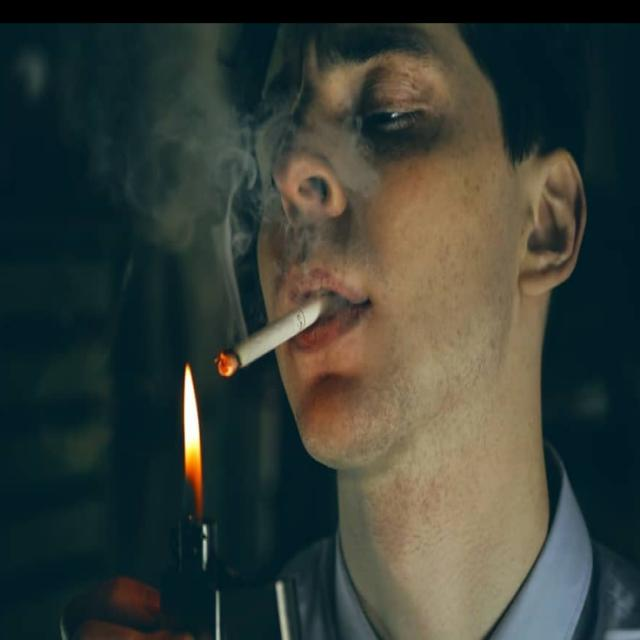fire: (184, 364, 202, 521)
